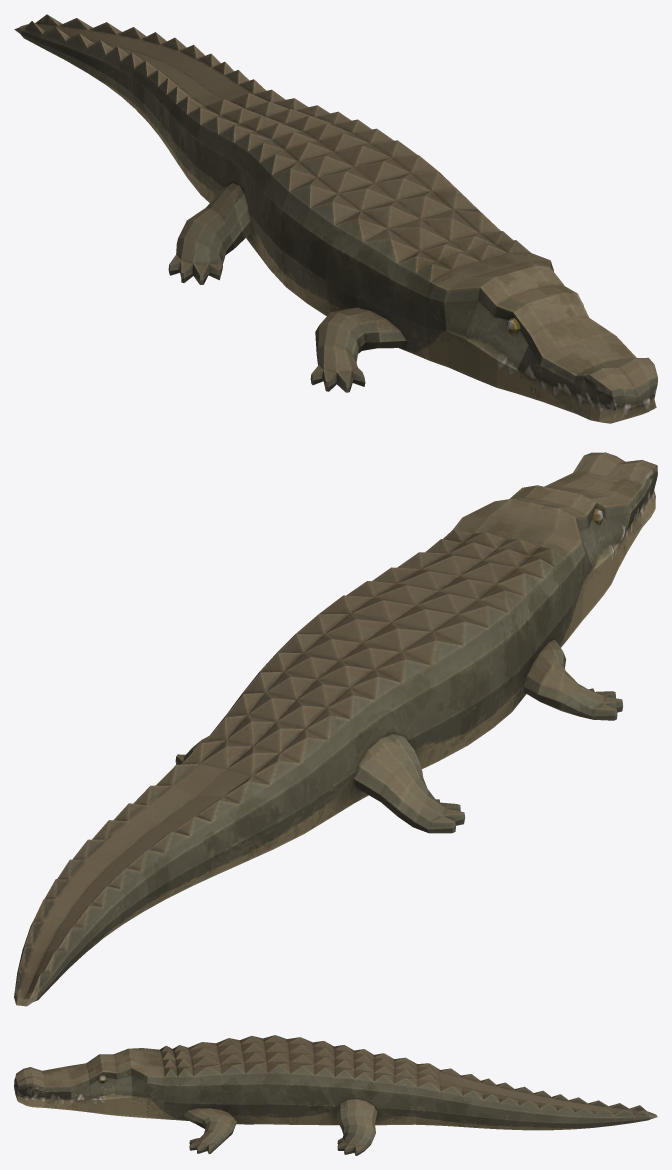
The model's file is PhilippineCrocodile.fbx.
3 renders of one model, top to bottom at view 1: azimuth 30°, elevation 25°; view 2: azimuth 150°, elevation 25°; view 3: azimuth 270°, elevation 25°, orthographic. The views are drawn at different scales.
Parts seen in each view (by area): view 1: PhilippineCrocodile; view 2: PhilippineCrocodile; view 3: PhilippineCrocodile.
Part boxes in pixels (x1,y1,x2,y2): PhilippineCrocodile: (14,14,657,423); PhilippineCrocodile: (14,452,657,1006); PhilippineCrocodile: (14,1035,657,1155).
Size of the model in its own units: 101 by 47.73 by 390.
